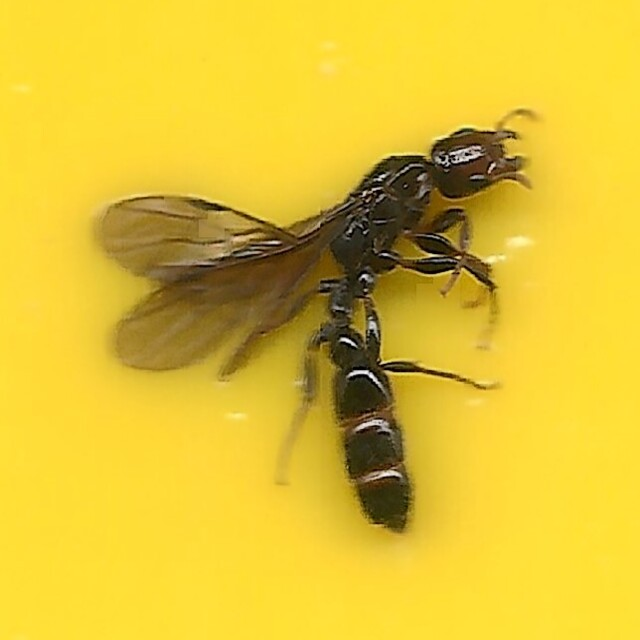Hymenoptera: (99, 105, 541, 535)
